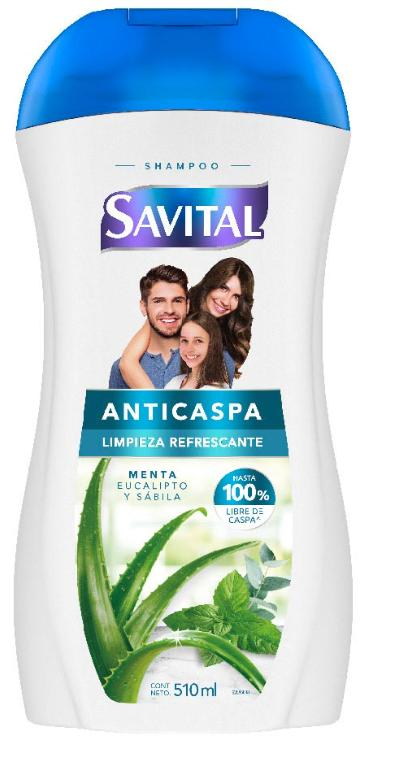brand: (100, 182, 270, 250)
net_weight: (172, 680, 219, 699)
product_name: (102, 393, 268, 429)
